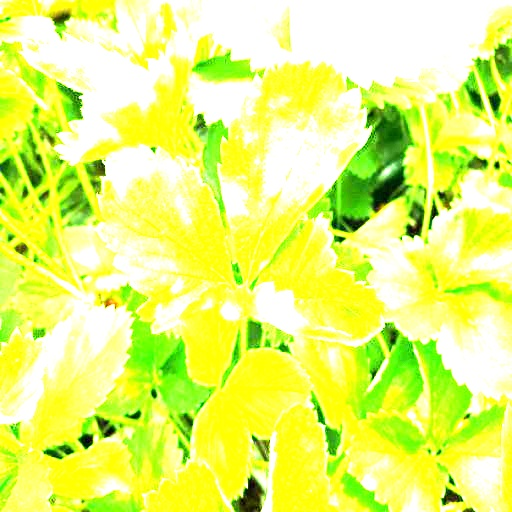Powdery Mildew Leaf: (95, 145, 236, 334), (52, 0, 206, 165), (220, 213, 389, 348), (260, 403, 340, 511), (16, 32, 143, 95)
